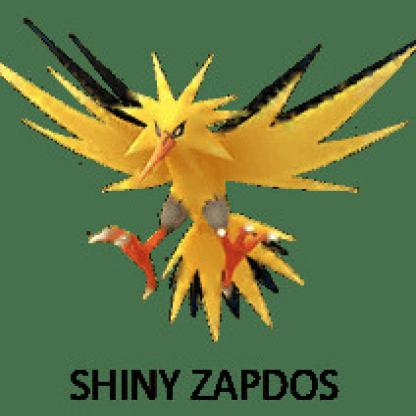Zapdos: (1, 17, 415, 347)
